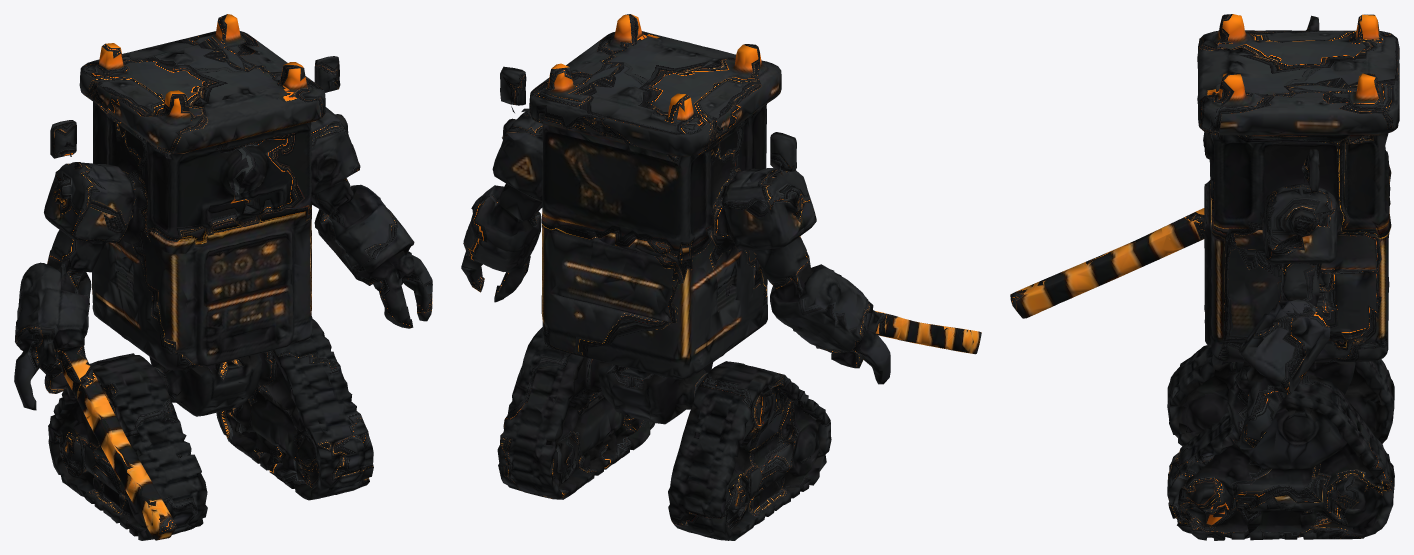
Rendered from statue-10.glb.
3 views of the same model, side by side, from view 1: azimuth 30°, elevation 25°; view 2: azimuth 150°, elevation 25°; view 3: azimuth 270°, elevation 25° (orthographic). The views are drawn at different scales.
Parts seen in each view (by area): view 1: body; view 2: body; view 3: body.
Part boxes in pixels (x1=…): body: x1=14, y1=14, x2=432, y2=540; body: x1=461, y1=14, x2=981, y2=540; body: x1=1010, y1=14, x2=1399, y2=540.
Size of the model in its own units: 1.01 by 0.9983 by 0.7966.
1 material, 1 textured.
